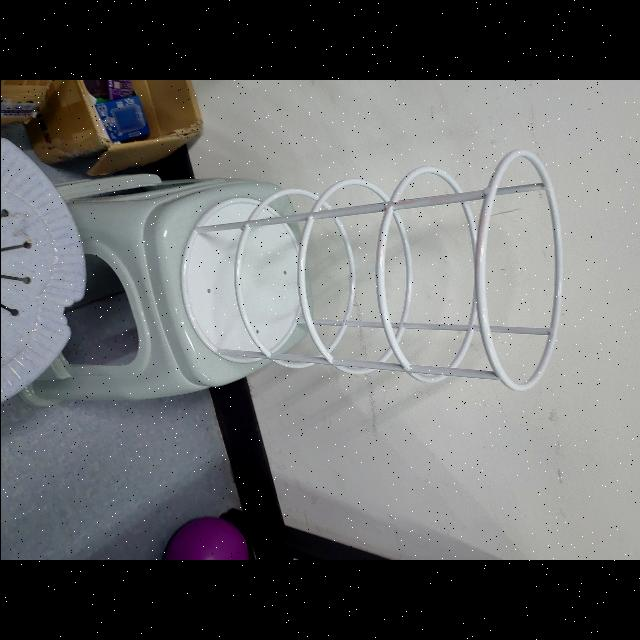S: (174, 146, 564, 396)
